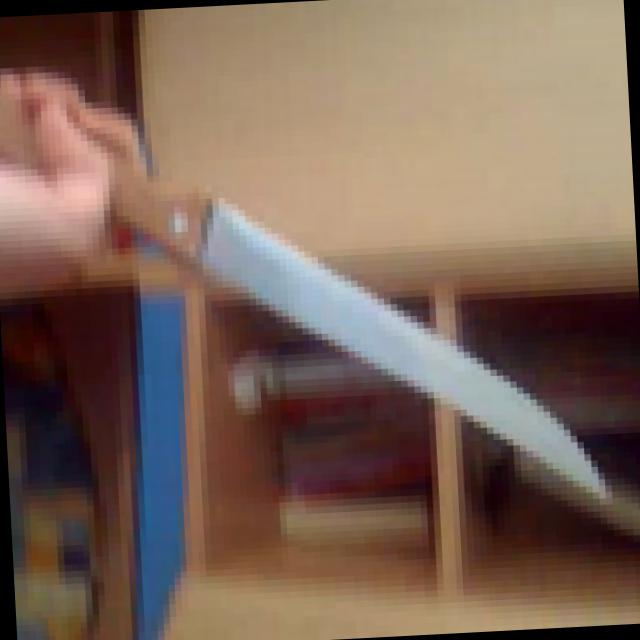knife: (0, 36, 619, 560)
